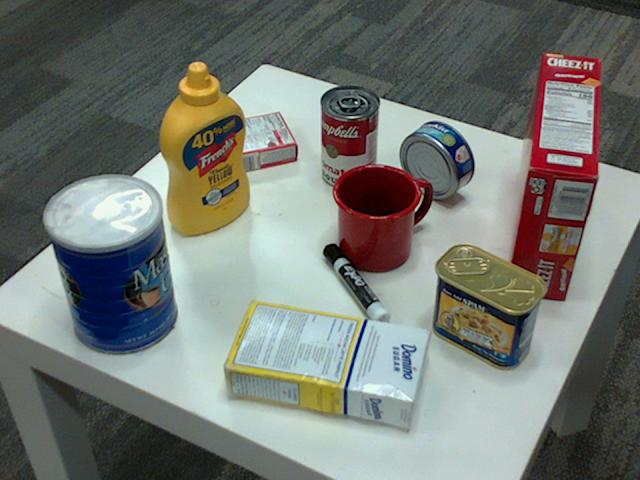cracker_box: (503, 51, 600, 298)
gelatin_box: (213, 108, 298, 171)
large_marker: (323, 245, 390, 331)
master_chef_can: (40, 175, 175, 356)
mug: (330, 161, 428, 269)
mustard_bottle: (158, 62, 249, 234)
potted_meat_can: (429, 243, 546, 369)
sugar_box: (217, 297, 427, 426)
tomato_soup_can: (319, 85, 379, 190)
tuna_fish_can: (398, 120, 472, 198)
